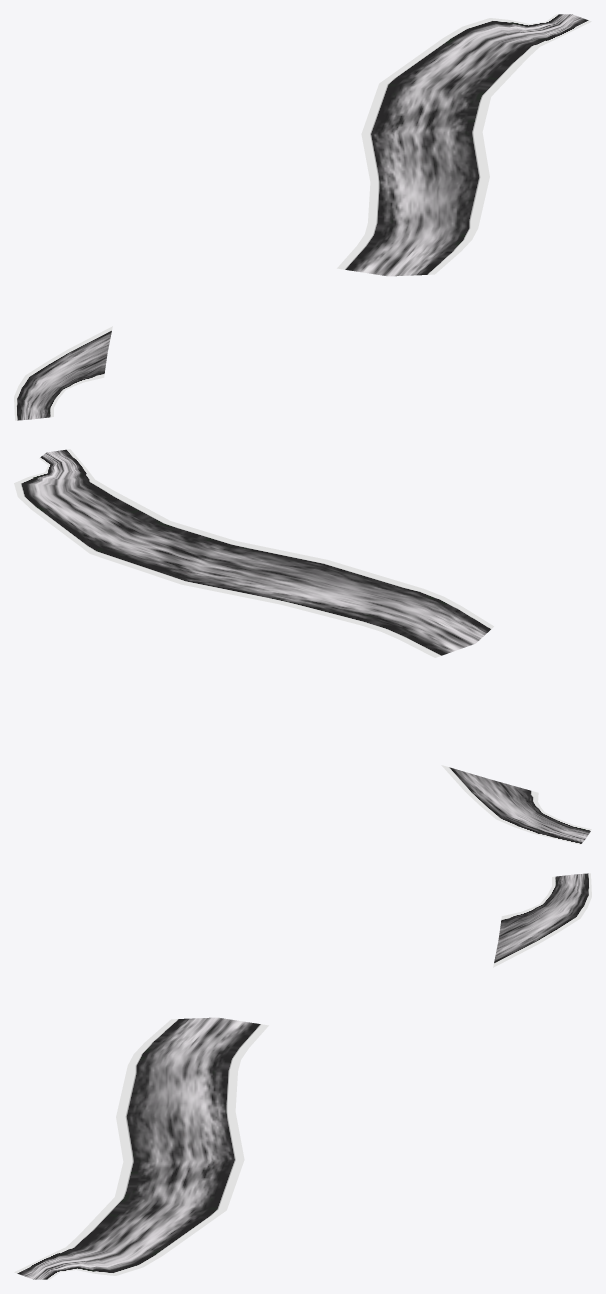
File: pubu_014.FBX
The picture shows the model from 3 angles, top to bottom: view 1: azimuth 90°, elevation 25°; view 2: azimuth 150°, elevation 25°; view 3: azimuth 270°, elevation 25°; orthographic projection. The views are drawn at different scales.
Parts seen in each view (by area): view 1: Plane1113; view 2: Plane1113; view 3: Plane1113.
Part boxes in pixels (left/top/right/bottom): Plane1113: left=14, top=14, right=591, bottom=420; Plane1113: left=14, top=449, right=591, bottom=844; Plane1113: left=14, top=873, right=591, bottom=1279.
Bounding box in the file's own units: 65.32 × 1.14e-07 × 39.25.
Materials: 1 (1 with a texture image).
